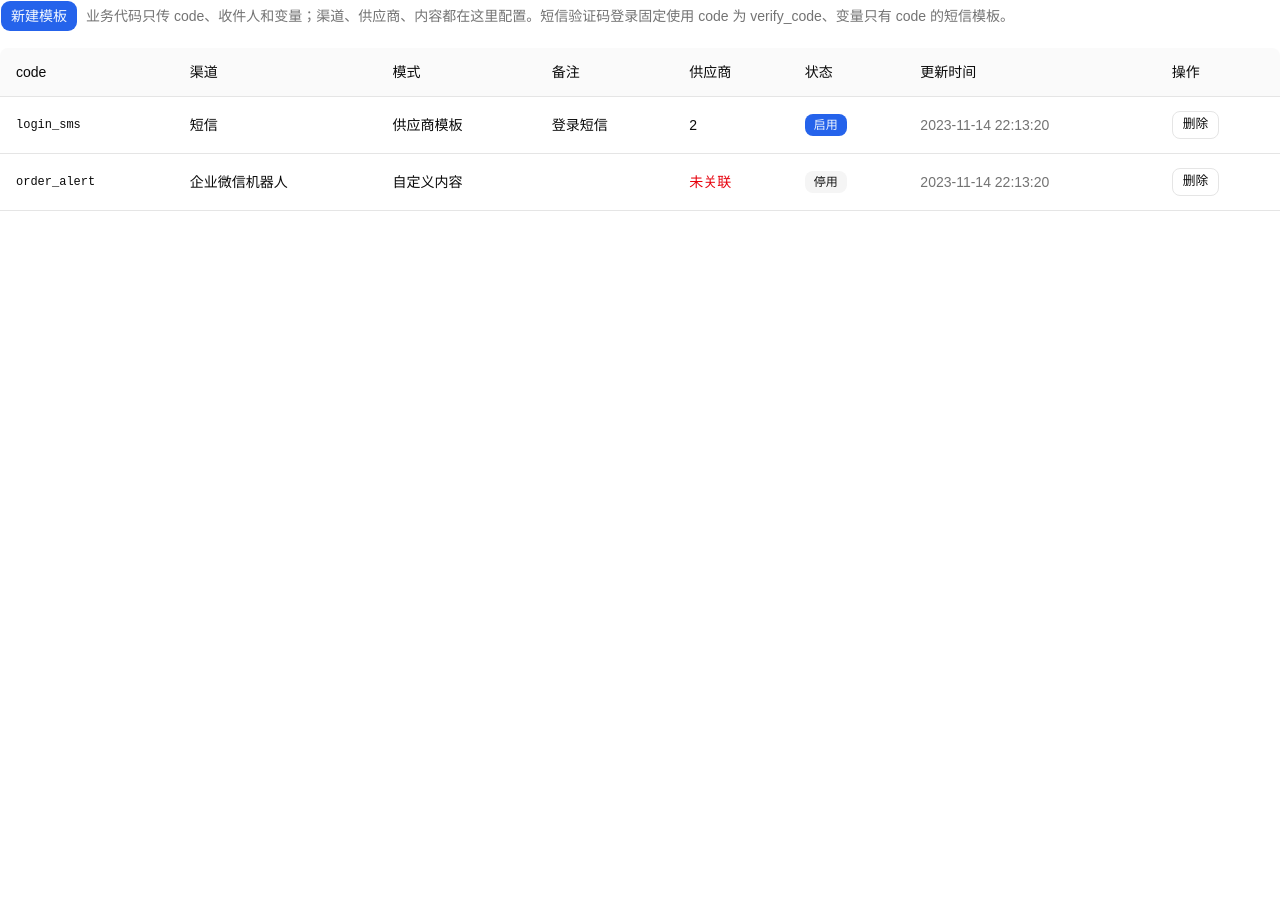
Test: 删除模板：在确认弹窗里点取消不发 DELETE，这一行还在
The image size is (1280, 900).
Click the button "删除" in the row of "login_sms". click: (1196, 124)
box: [1172,110,1219,138]
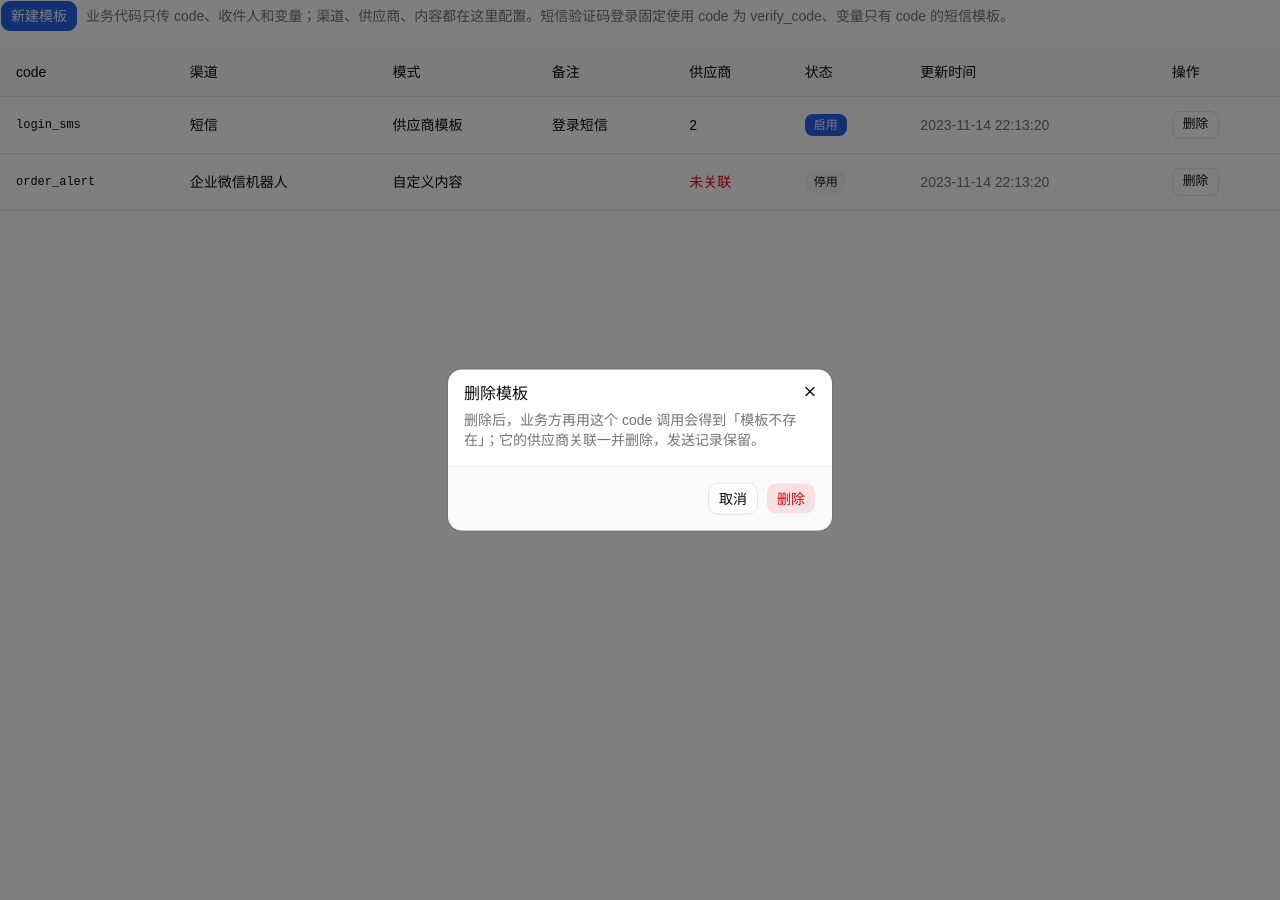
Expected: the text "删除后，业务方再用这个 code 调用会得到「模板不存在」；它的供应商关联一并删除，发送记录保留。" is shown, [464,410,816,450]
Click the button "取消". click: (733, 498)
box: [708,482,758,514]
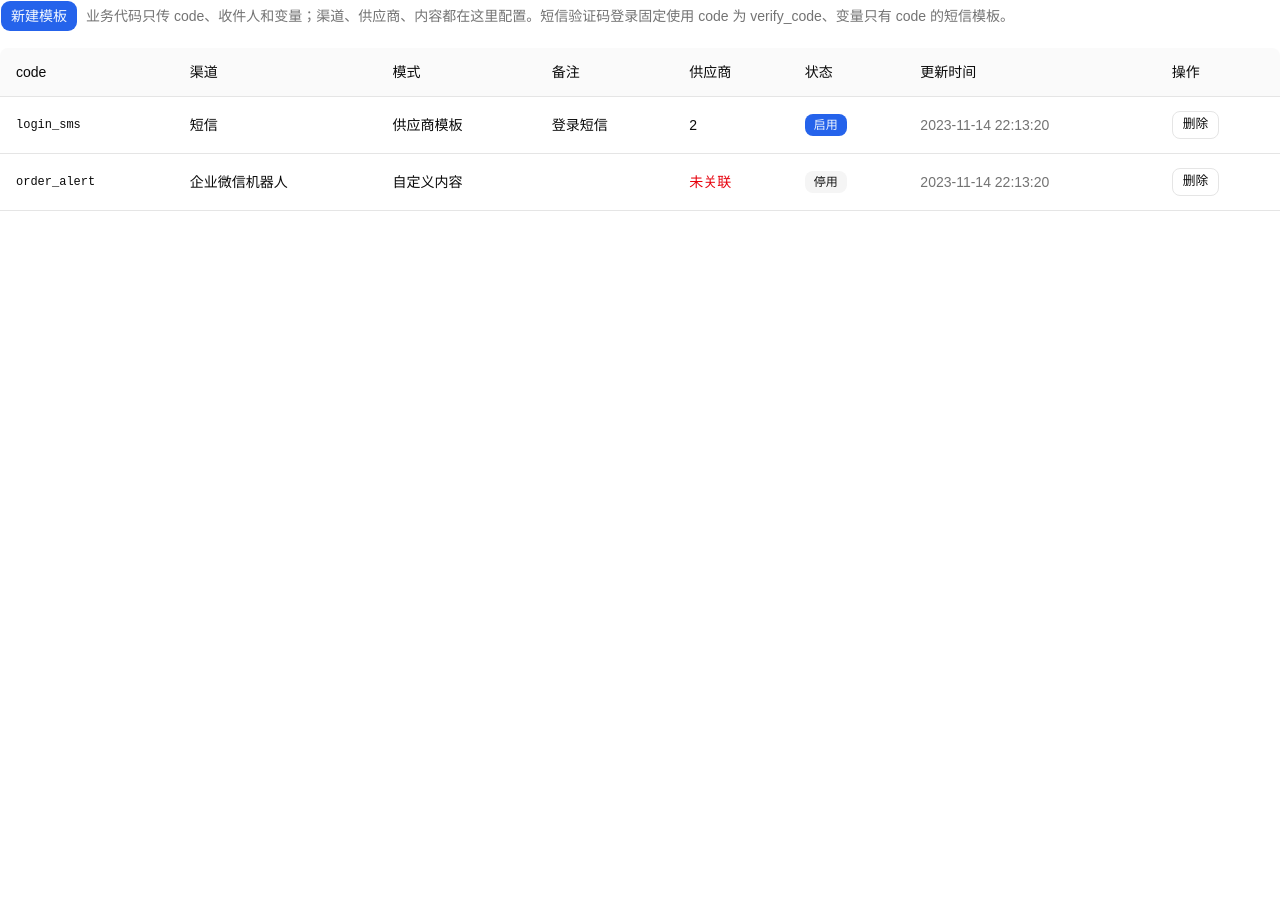
Expected: the link "login_sms" is shown, [16,118,81,132]
Expected: the text "模板不存在" is gone
